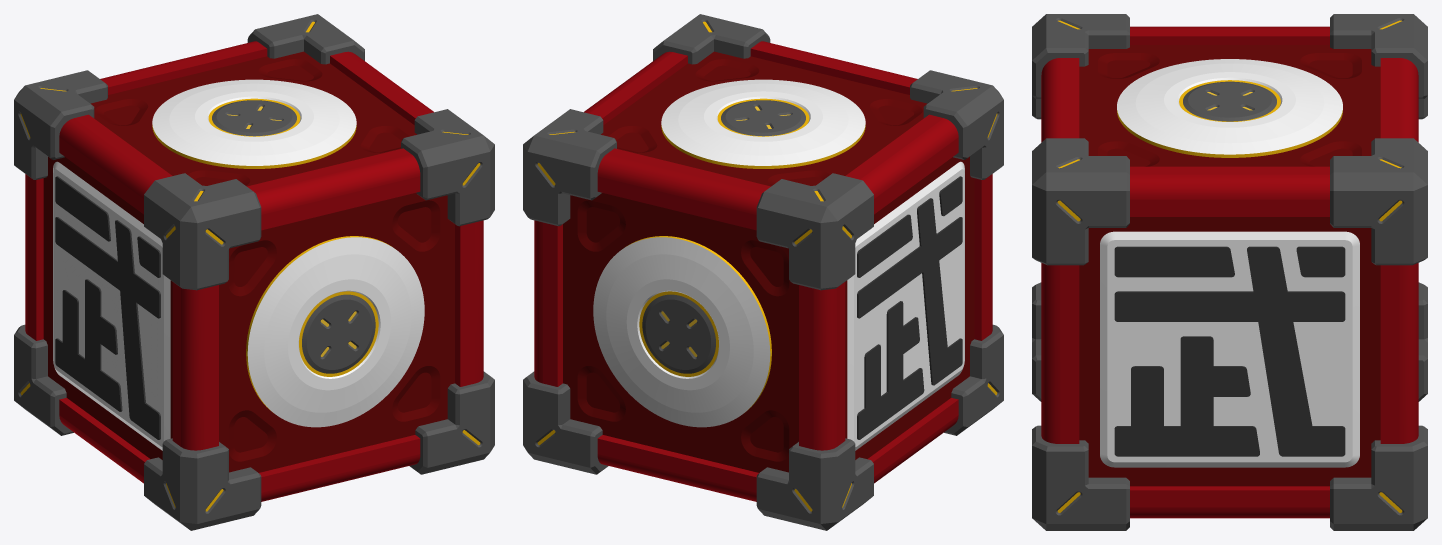
3 renders of one model, left to right at view 1: azimuth 30°, elevation 25°; view 2: azimuth 150°, elevation 25°; view 3: azimuth 270°, elevation 25°, orthographic. The views are drawn at different scales.
Parts seen in each view (by area): view 1: root; view 2: root; view 3: root.
Part boxes in pixels (x1=…): root: x1=14, y1=14, x2=494, y2=530; root: x1=523, y1=14, x2=1003, y2=530; root: x1=1032, y1=14, x2=1427, y2=530.
Size of the model in its own units: 10.68 by 10.5 by 10.5.
